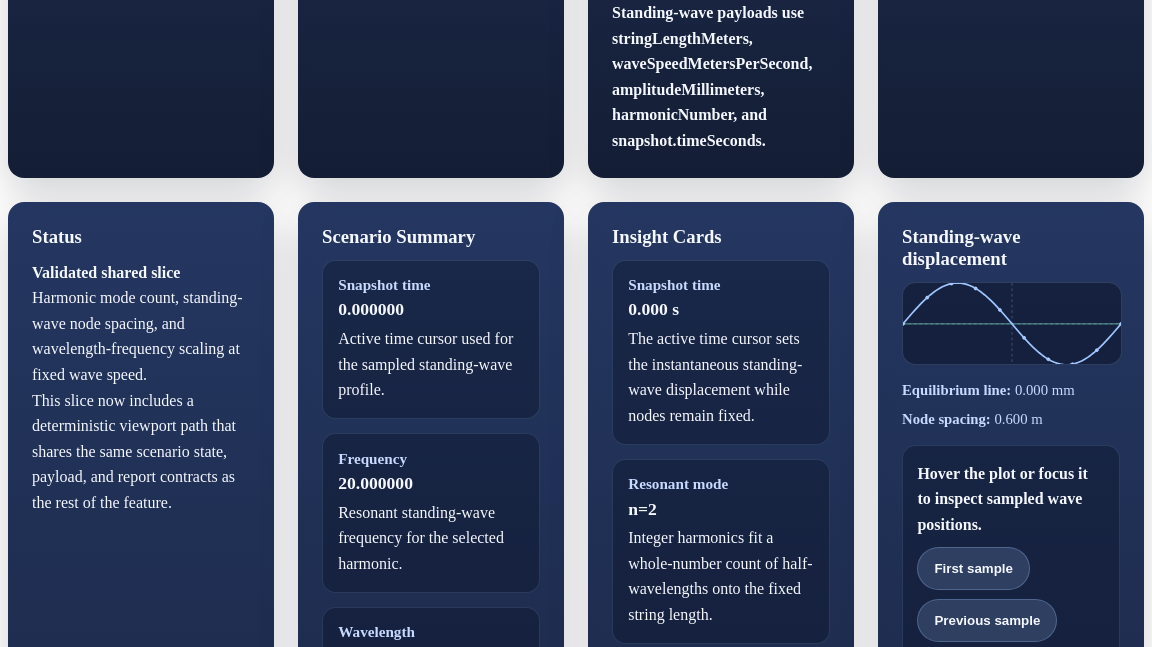
it: WavesAndAcousticsPageComponent › focuses the plot to expose a sampled readout
(page scrolled)
Focus the icon named "Standing-wave displacement" at (1012, 324), box x1=902 y1=282 x2=1122 y2=365
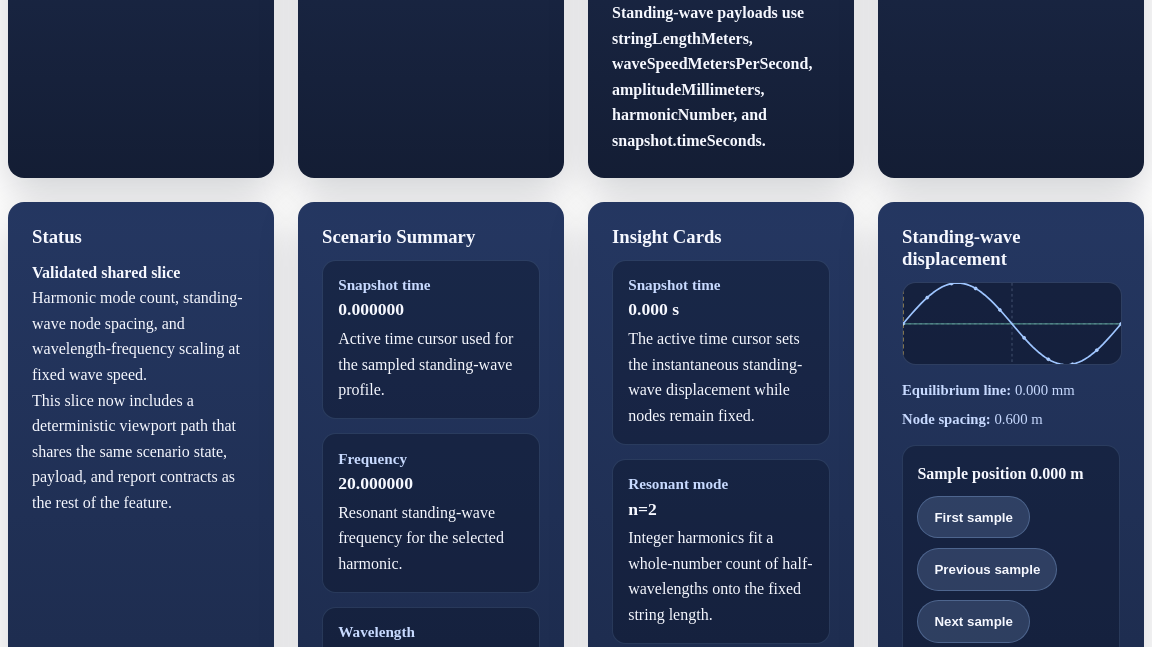
Now the text "Sample position 0.000 m" is shown, box x1=917 y1=465 x2=1084 y2=482
